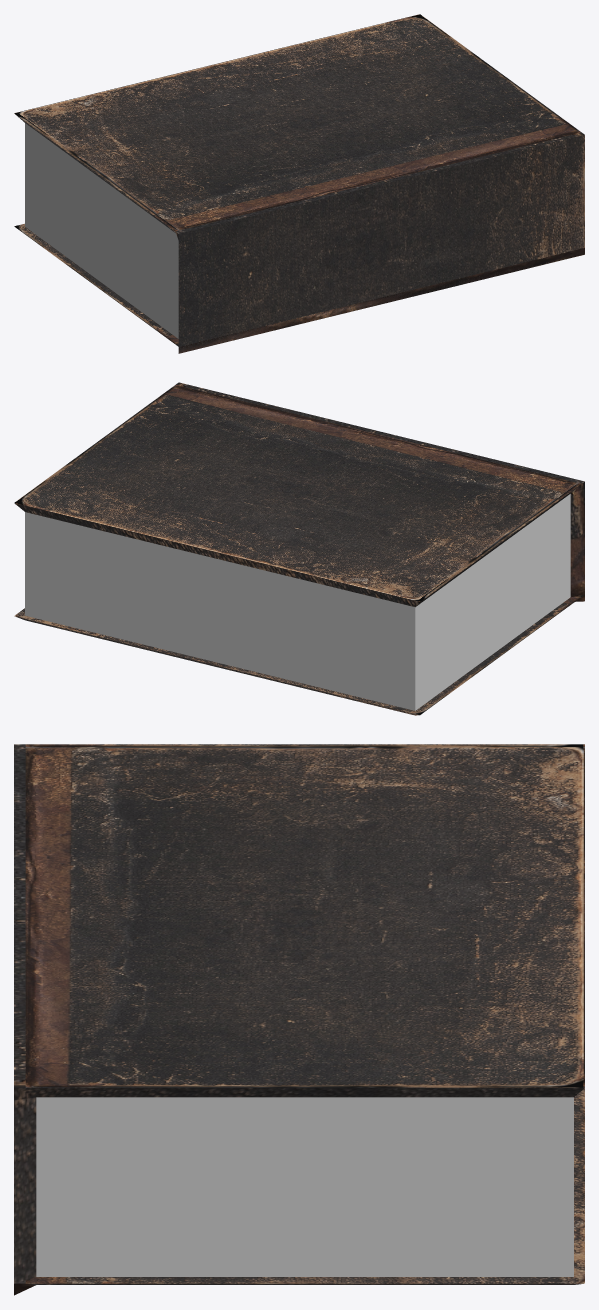
Rendered from book.glb.
3 views of the same model, one above another, from view 1: azimuth 30°, elevation 25°; view 2: azimuth 150°, elevation 25°; view 3: azimuth 270°, elevation 25° (orthographic). The views are drawn at different scales.
Parts seen in each view (by area): view 1: Book; view 2: Book; view 3: Book.
Boxes of the visible parts, x1=… form: Book: x1=14, y1=14, x2=584, y2=353; Book: x1=14, y1=382, x2=584, y2=715; Book: x1=14, y1=744, x2=584, y2=1295.
Size of what is drawn, in the model's own units: 1.62 by 0.4563 by 1.14.
2 materials, 1 textured.
